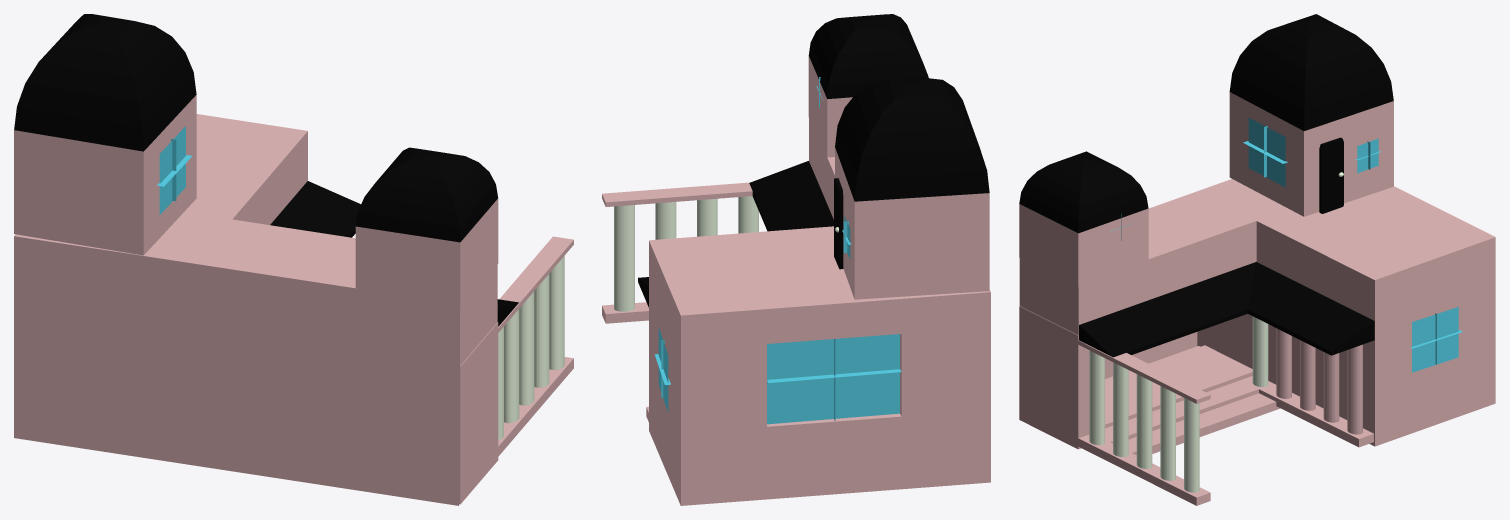
The model's file is Extracteur obsidienne.fbx.
3 views of the same model, side by side, from view 1: azimuth 30°, elevation 25°; view 2: azimuth 150°, elevation 25°; view 3: azimuth 270°, elevation 25° (orthographic). The views are drawn at different scales.
Visible parts, largest first — view 1: Coupole; view 2: Coupole; view 3: Coupole.
Boxes of the visible parts, x1,y1,x2,y2 form: Coupole: (14, 14, 573, 505); Coupole: (602, 14, 990, 505); Coupole: (1019, 14, 1495, 505).
Bounding box in the file's own units: 5.04 × 5.19 × 3.93.
